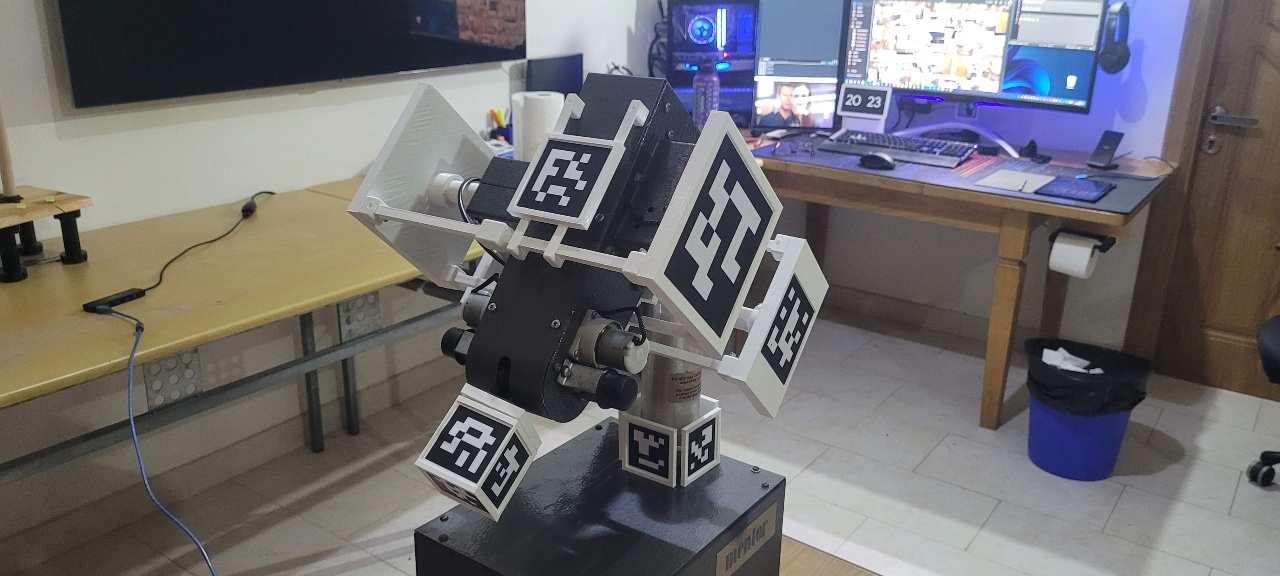Robot: (345, 71, 831, 525)
